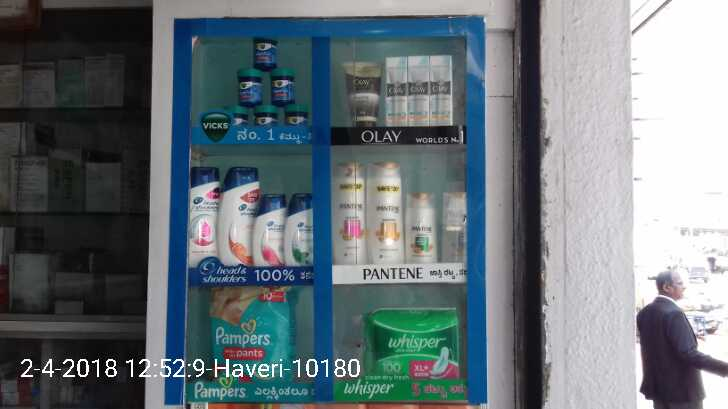vicks: (219, 106, 313, 128), (239, 68, 263, 103), (273, 67, 296, 101), (258, 35, 276, 64)
